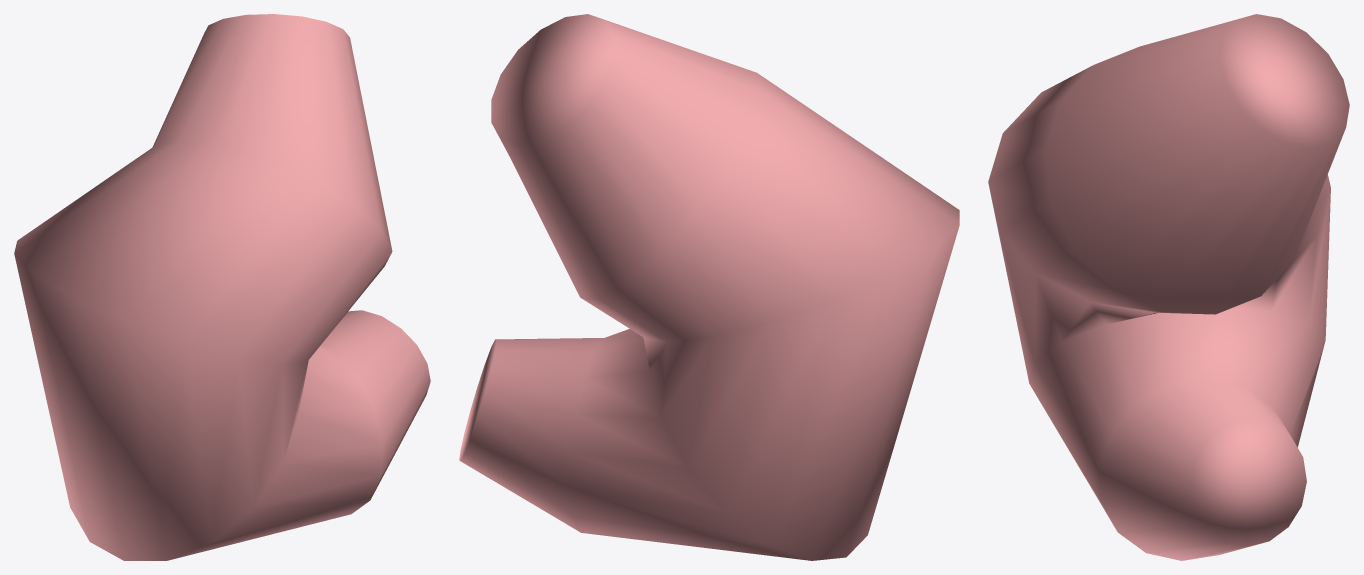
The model's file is stomach.glb.
3 renders of one model, left to right at view 1: azimuth 30°, elevation 25°; view 2: azimuth 150°, elevation 25°; view 3: azimuth 270°, elevation 25°, orthographic. The views are drawn at different scales.
Visible parts, largest first — view 1: organ_stomach; view 2: organ_stomach; view 3: organ_stomach.
Boxes of the visible parts, <box> form: organ_stomach: <box>14,14,430,560</box>; organ_stomach: <box>459,14,959,560</box>; organ_stomach: <box>988,14,1349,560</box>.
Bounding box in the file's own units: 0.1433 × 0.1625 × 0.1012.
